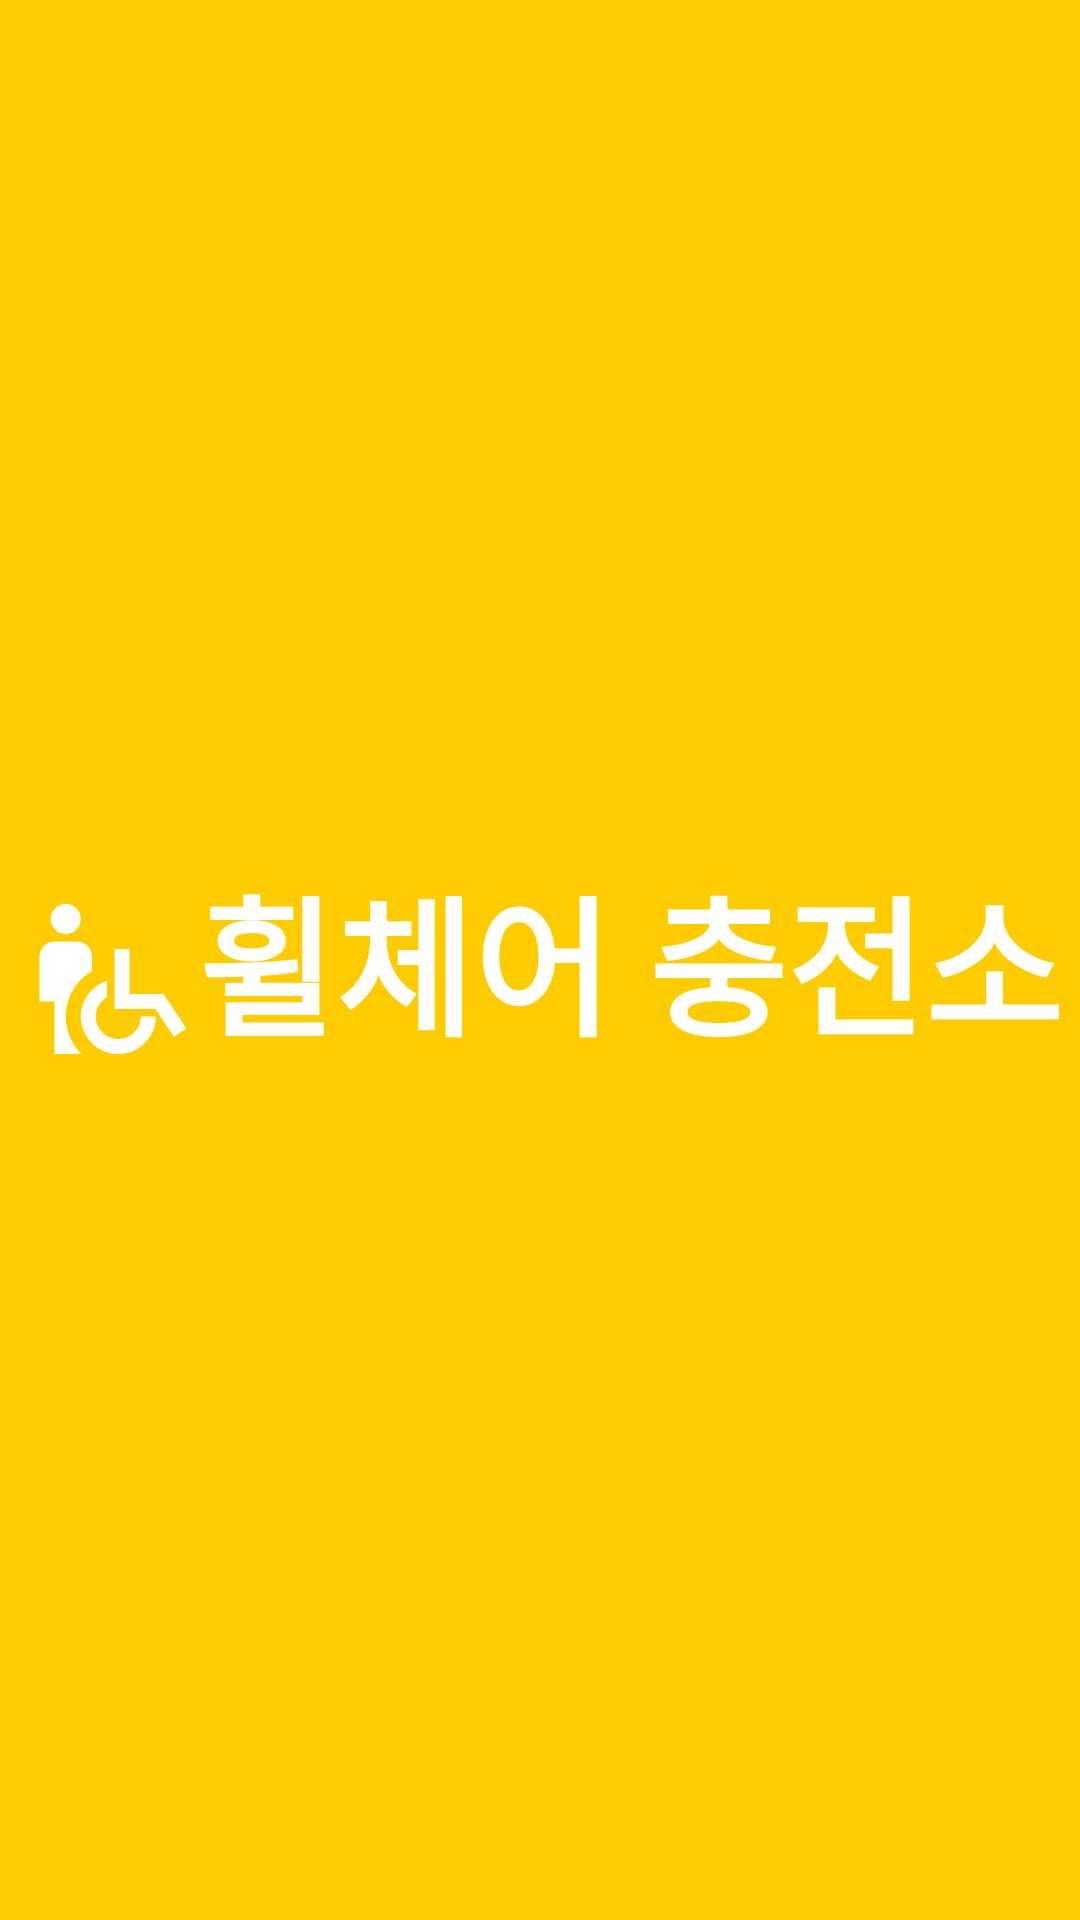

Screen size 1080x1920. Icon name, then its box in pixels as (x1, y1, x2, y2):
wheelchair pickup: (39, 904, 187, 1054)
